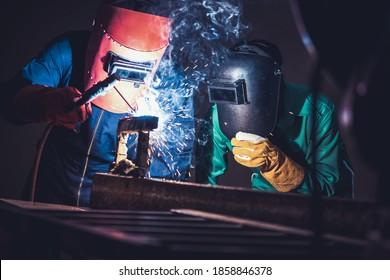gloves: (232, 131, 305, 195), (7, 83, 92, 131)
